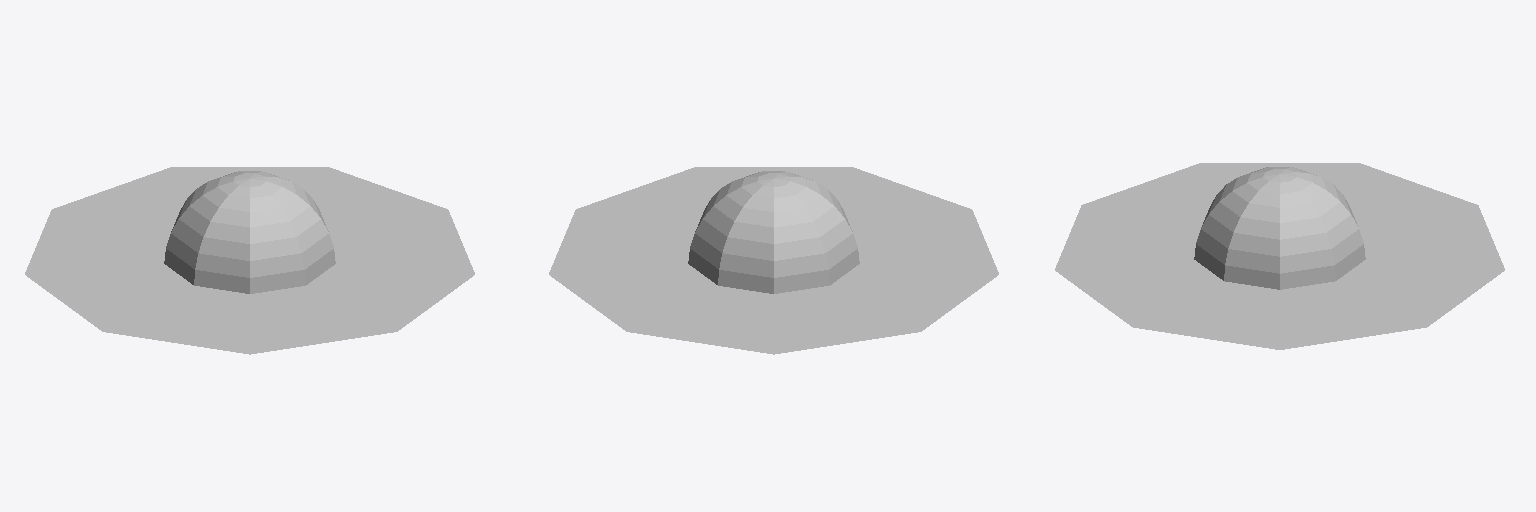
The model's file is saucer.obj.
3 renders of one model, left to right at view 1: azimuth 30°, elevation 25°; view 2: azimuth 150°, elevation 25°; view 3: azimuth 270°, elevation 25°, orthographic.
Parts seen in each view (by area): view 1: Circle; view 2: Circle; view 3: Circle.
Boxes of the visible parts, x1,y1,x2,y2 form: Circle: [25, 167, 474, 354]; Circle: [549, 167, 998, 354]; Circle: [1055, 163, 1504, 349].
Bounding box in the file's own units: 5.1 × 2 × 5.18.